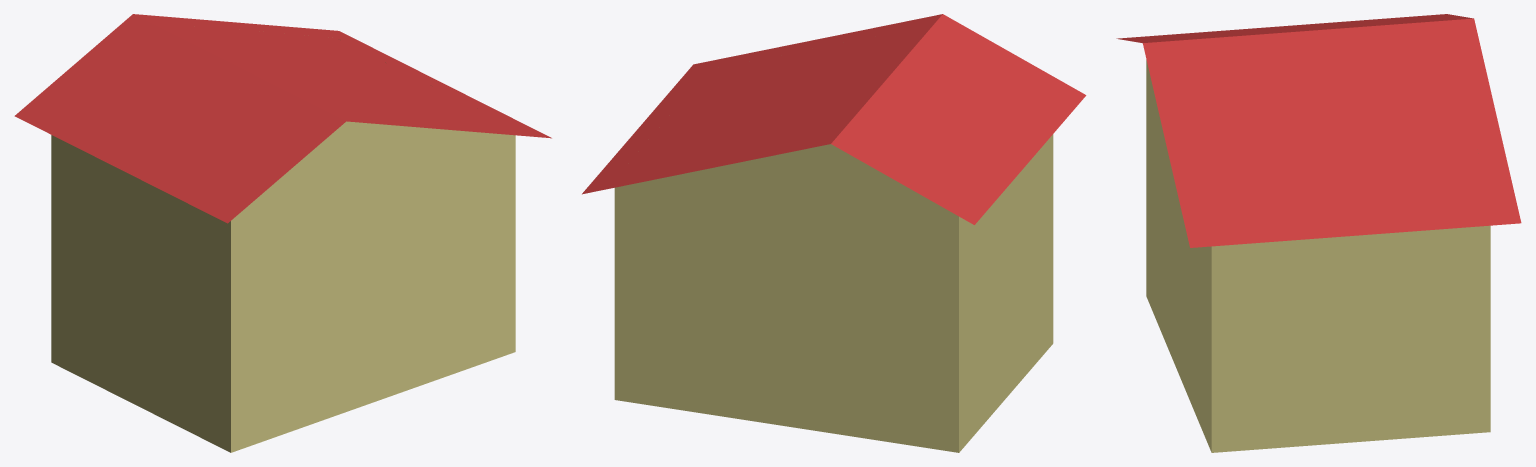
3 views of the same model, side by side, from view 1: azimuth 30°, elevation 25°; view 2: azimuth 150°, elevation 25°; view 3: azimuth 270°, elevation 25° (orthographic). The views are drawn at different scales.
Bounding box in the file's own units: 13.61 × 11.47 × 9.63.
